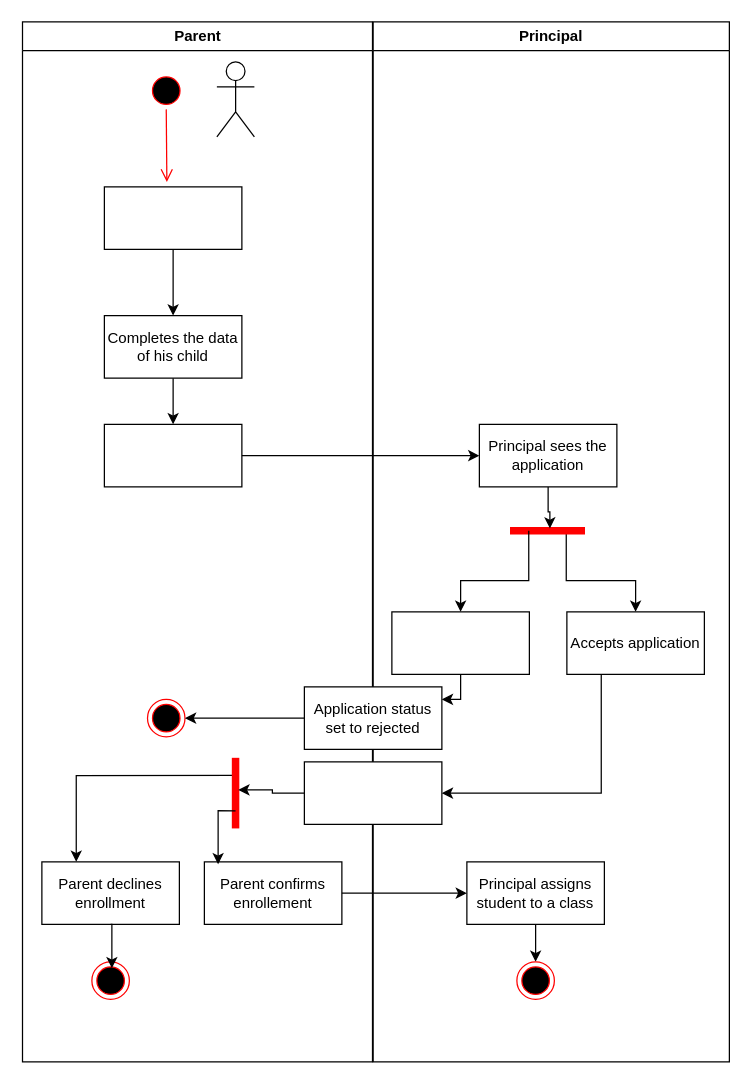
The diagram is 751 pixels wide and 1084 high, and some of its shapes have lost their labels. Each missing label, with the box of its shape:
Application status set to accepted: (303, 761, 442, 824)
Chooses a school: (103, 186, 242, 249)
Declines application: (391, 611, 529, 674)
Parent making the application: (216, 61, 254, 137)
Sends the application data: (103, 423, 242, 487)
